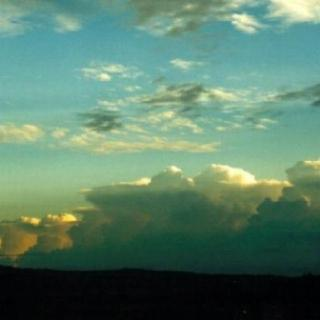Cumulus: (0, 0, 320, 266)
